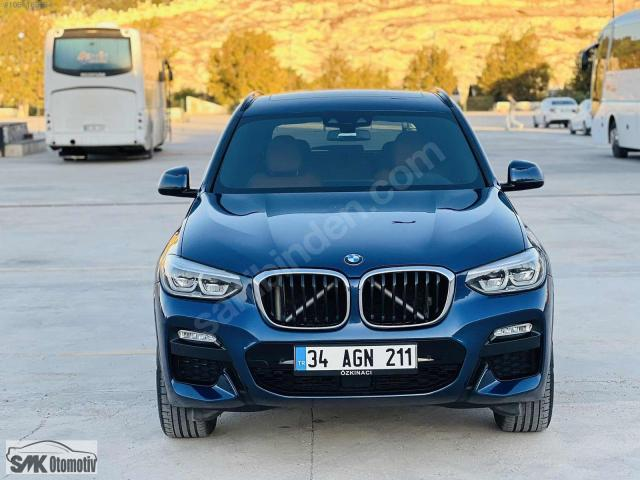plaka: (295, 344, 416, 374)
